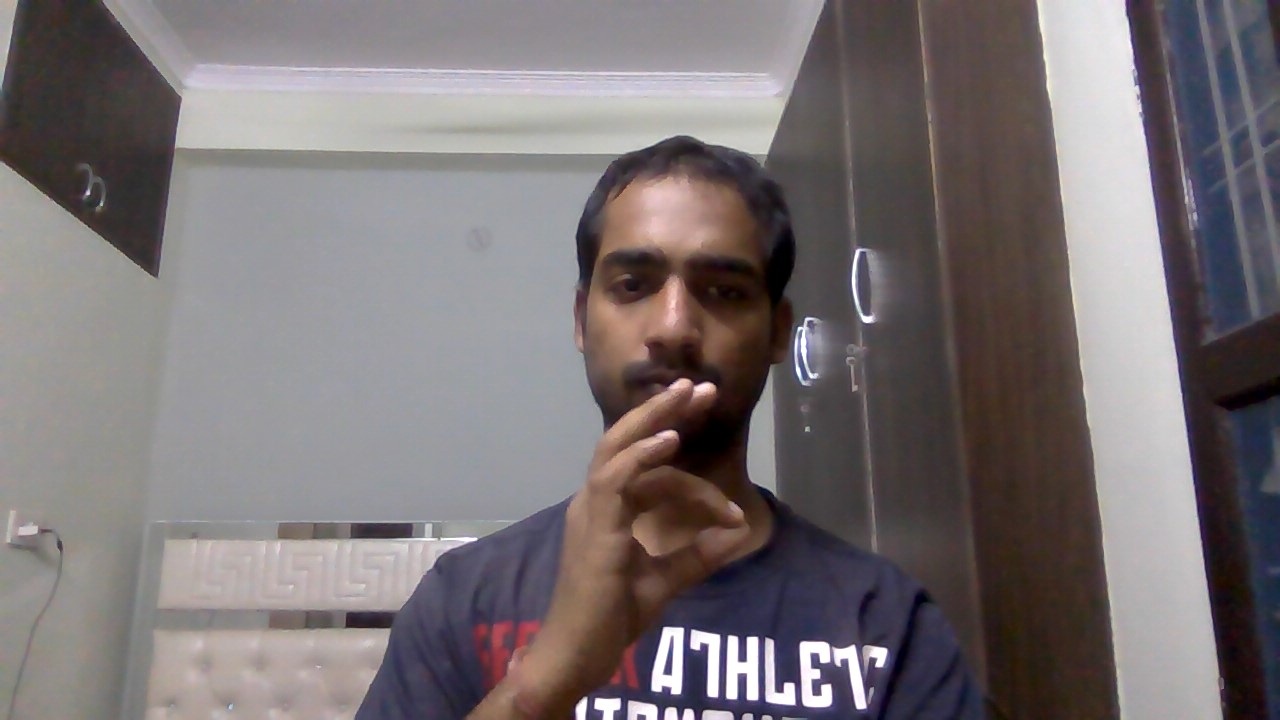Copy: (545, 371, 772, 685)
